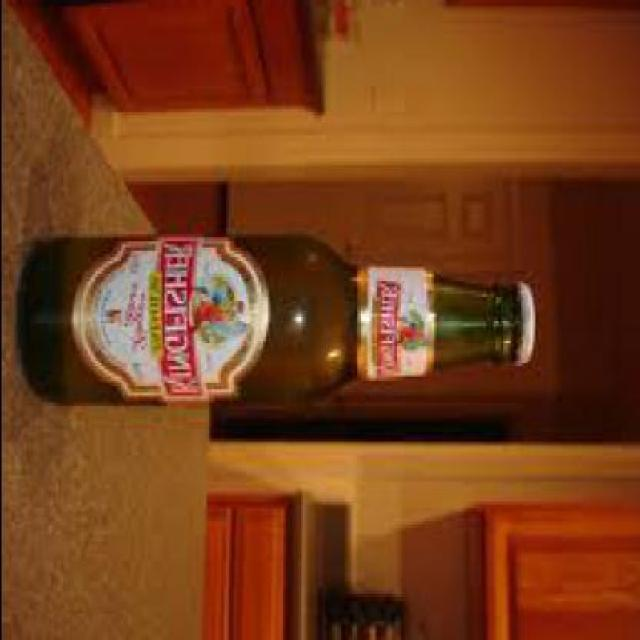GLASS: (20, 237, 517, 412)
METAL: (514, 287, 538, 373)
